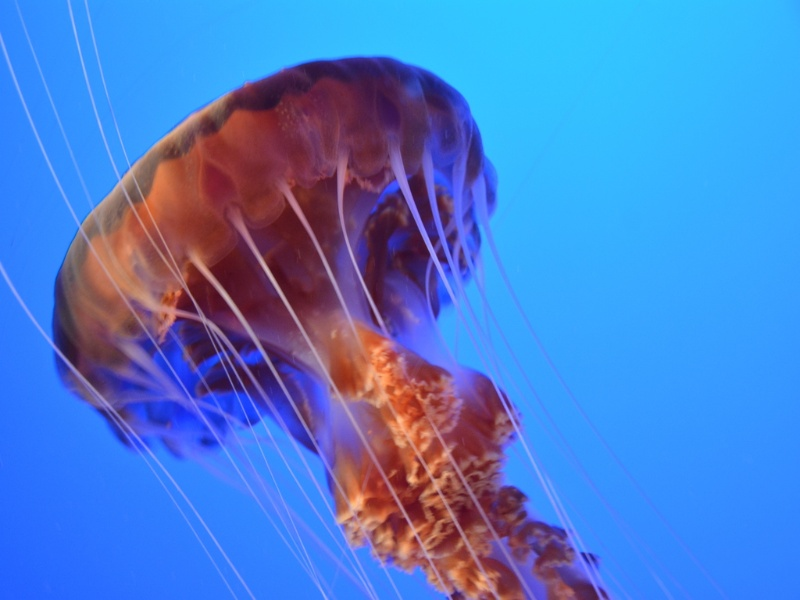Jellyfish: (20, 61, 626, 600)
